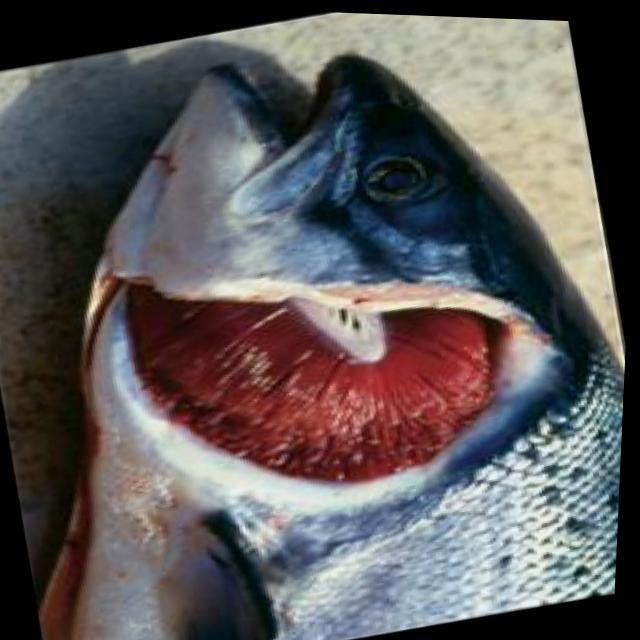Gill Disease: (47, 53, 608, 617)
